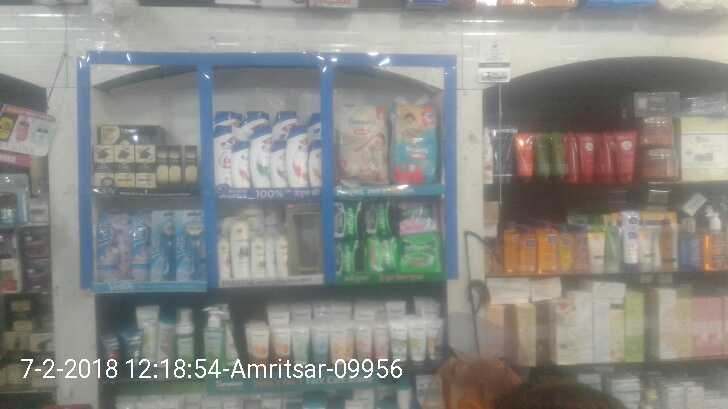venus: (93, 203, 130, 285), (148, 211, 177, 280), (177, 209, 203, 280), (130, 210, 148, 285)
